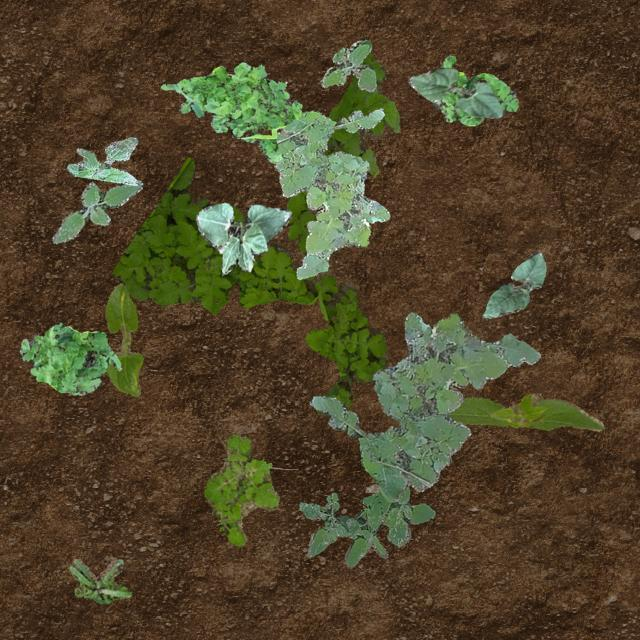crop: (194, 202, 290, 274), (448, 392, 602, 430), (406, 66, 504, 118), (104, 282, 142, 396), (482, 250, 544, 318)
weed: (111, 157, 388, 416), (308, 312, 540, 500), (286, 51, 398, 254), (274, 108, 388, 278), (160, 62, 300, 162), (297, 484, 433, 566), (202, 432, 278, 546), (19, 320, 120, 394), (430, 54, 518, 124), (51, 180, 140, 242), (66, 136, 136, 184), (320, 38, 376, 90), (68, 558, 130, 602)
